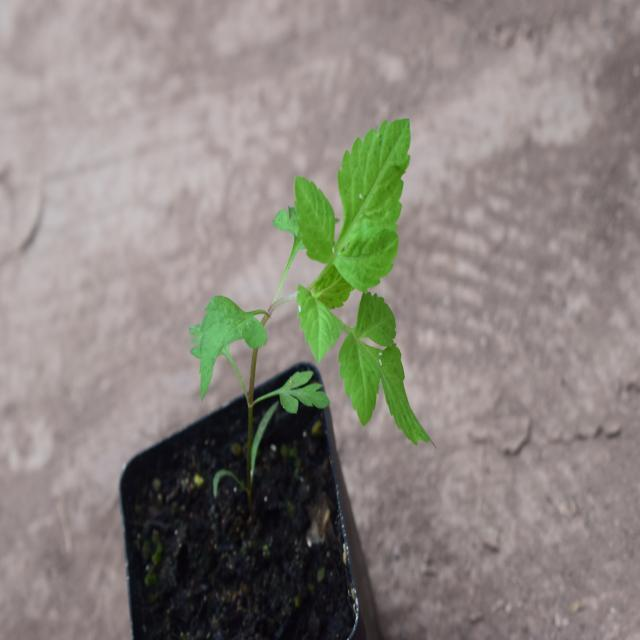Bidens pilosa: (181, 99, 462, 471)
